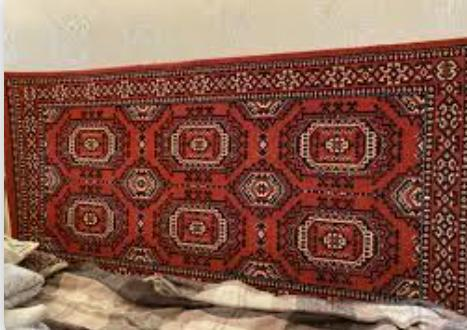carpet: (5, 39, 467, 312)
